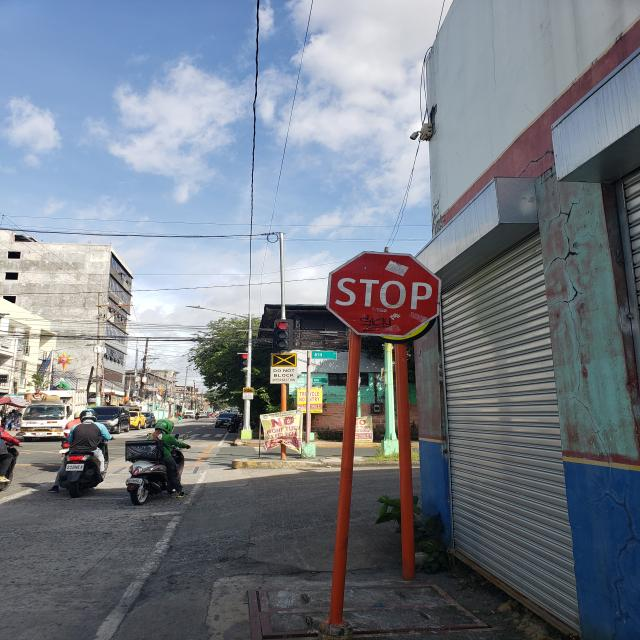stop-sign: (325, 250, 442, 338)
